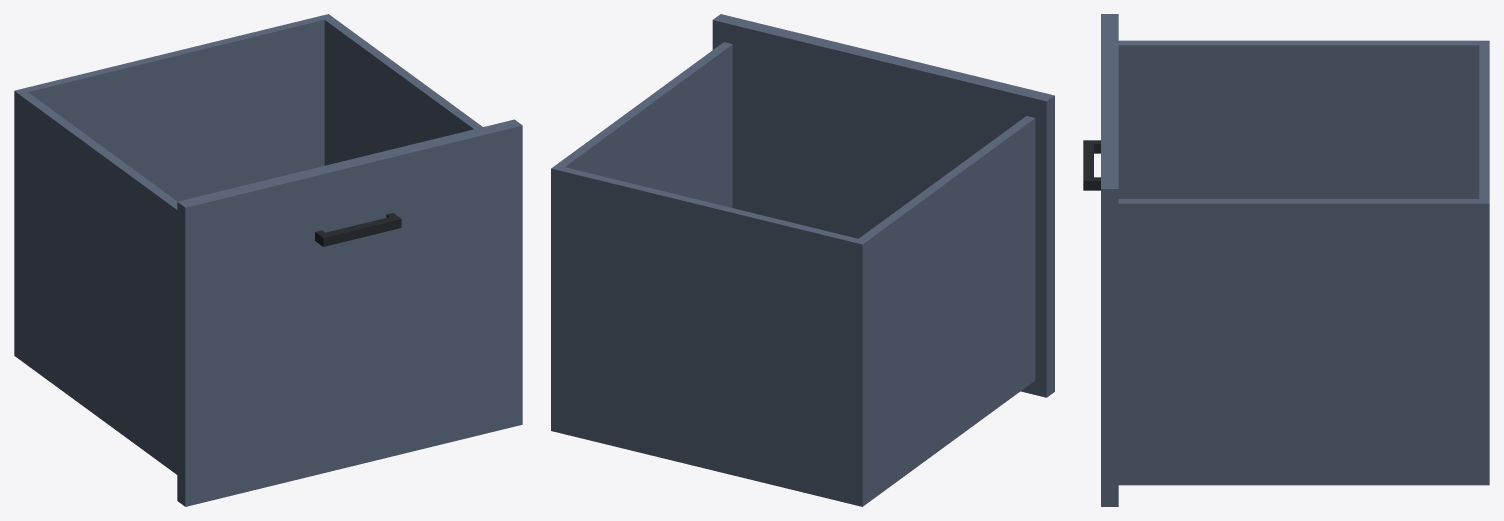
File: Door1_C4_06.fbx
The picture shows the model from 3 angles, left to right: view 1: azimuth 30°, elevation 25°; view 2: azimuth 150°, elevation 25°; view 3: azimuth 270°, elevation 25°; orthographic projection. The views are drawn at different scales.
Visible parts, largest first — view 1: Door1_C4_06; view 2: Door1_C4_06; view 3: Door1_C4_06.
Boxes of the visible parts, bbox=[...] form: Door1_C4_06: bbox=[14, 14, 522, 506]; Door1_C4_06: bbox=[551, 14, 1054, 506]; Door1_C4_06: bbox=[1083, 14, 1489, 506].
Size of the model in its own units: 59 by 50 by 57.89.
